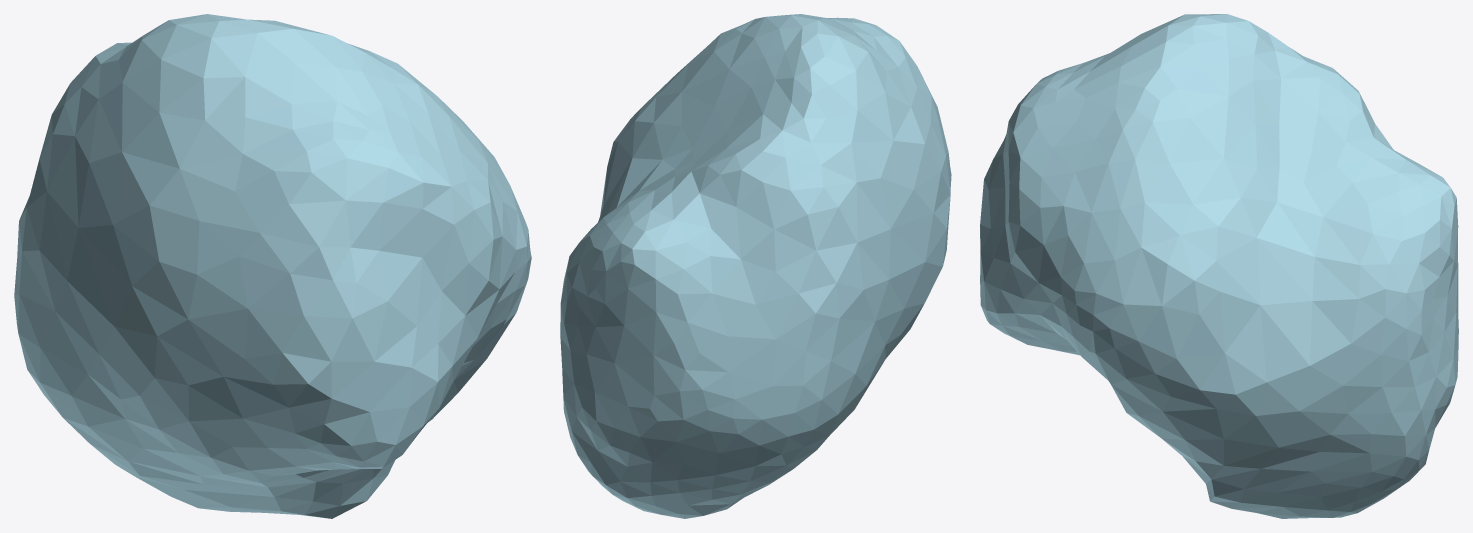
The model's file is livertumor02.obj.
The picture shows the model from 3 angles, left to right: view 1: azimuth 30°, elevation 25°; view 2: azimuth 150°, elevation 25°; view 3: azimuth 270°, elevation 25°; orthographic projection. The views are drawn at different scales.
Visible parts, largest first — view 1: grp1; view 2: grp1; view 3: grp1.
Part boxes in pixels (x1=…): grp1: x1=14, y1=14, x2=531, y2=518; grp1: x1=560, y1=14, x2=951, y2=518; grp1: x1=980, y1=14, x2=1458, y2=518.
Bounding box in the file's own units: 20.73 × 28.47 × 27.19.
